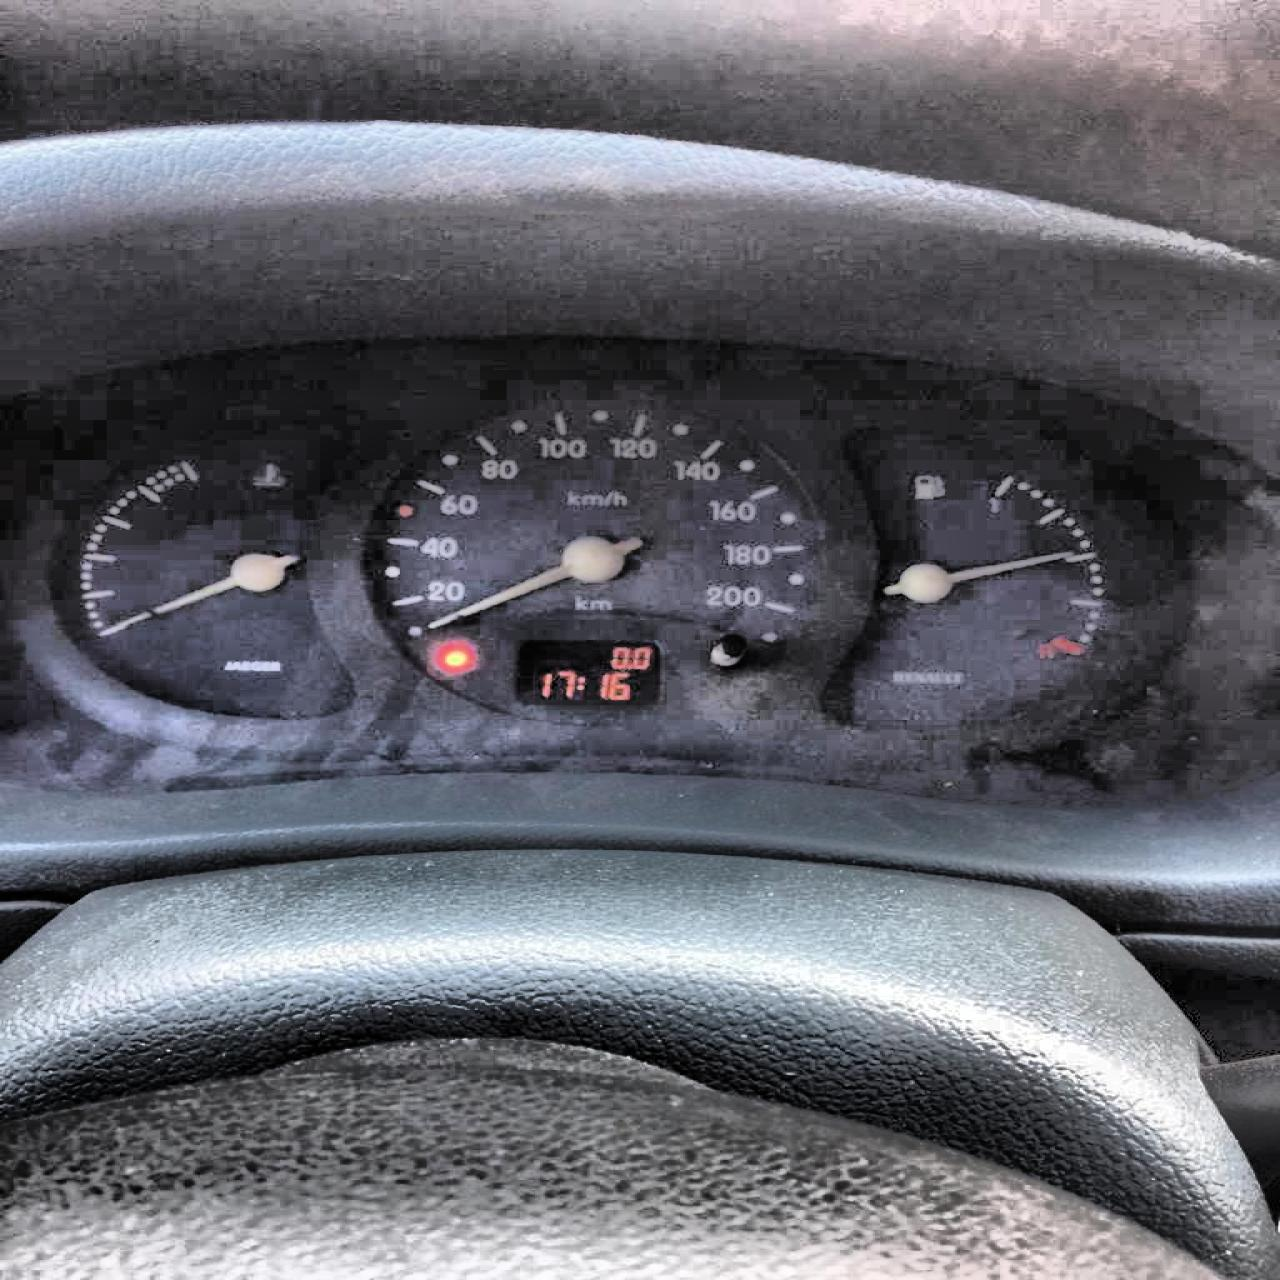-: (626, 662, 632, 668)
0: (632, 645, 651, 669), (611, 646, 627, 669)
1: (538, 672, 553, 696), (595, 672, 607, 697)
6: (607, 670, 628, 700)
7: (554, 669, 576, 696)
X: (577, 675, 584, 692)
odometer: (505, 636, 668, 710)
